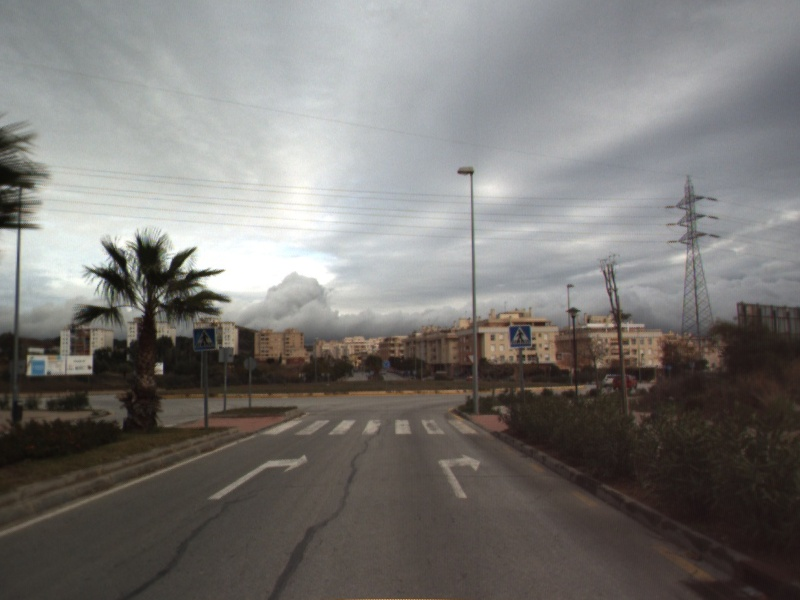RIGHT: (206, 451, 310, 501), (436, 451, 483, 500)
